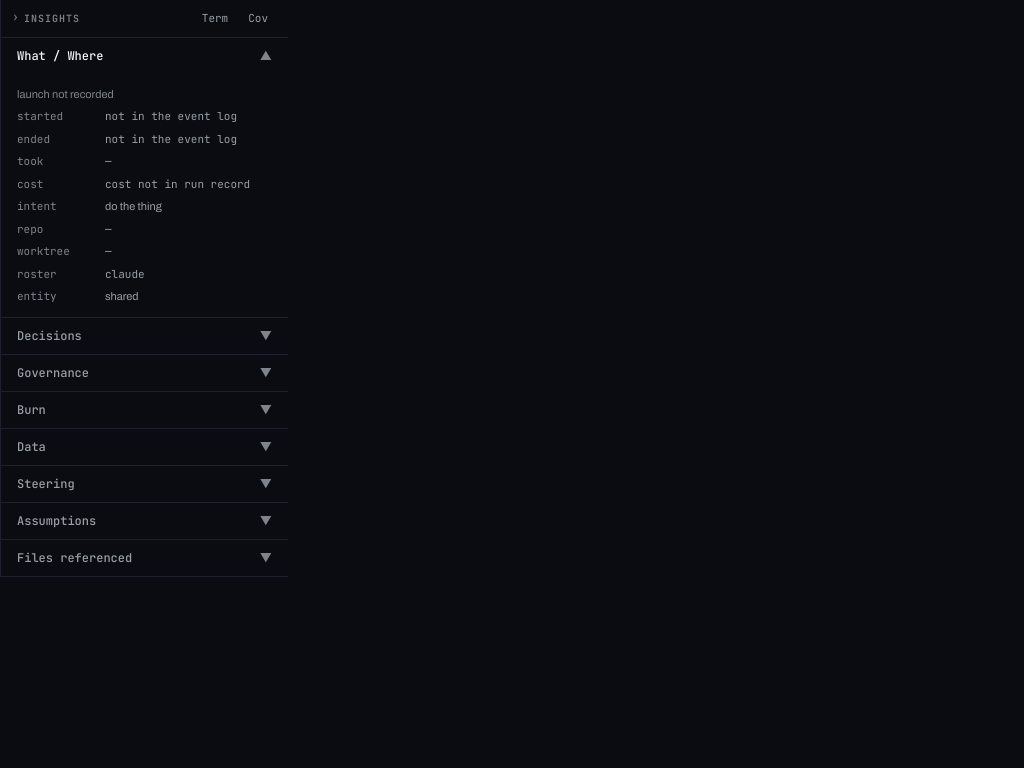
Scenario: RightPanel Files — the Full diff on the EMPTY state (F-7R2-013) › a completed run whose units recorded no file reads still offers Full diff, and it opens the viewer on the diff tab
Step 1. Click the button "Files referenced ▼" → (75,558), box x1=1 y1=540 x2=288 y2=576
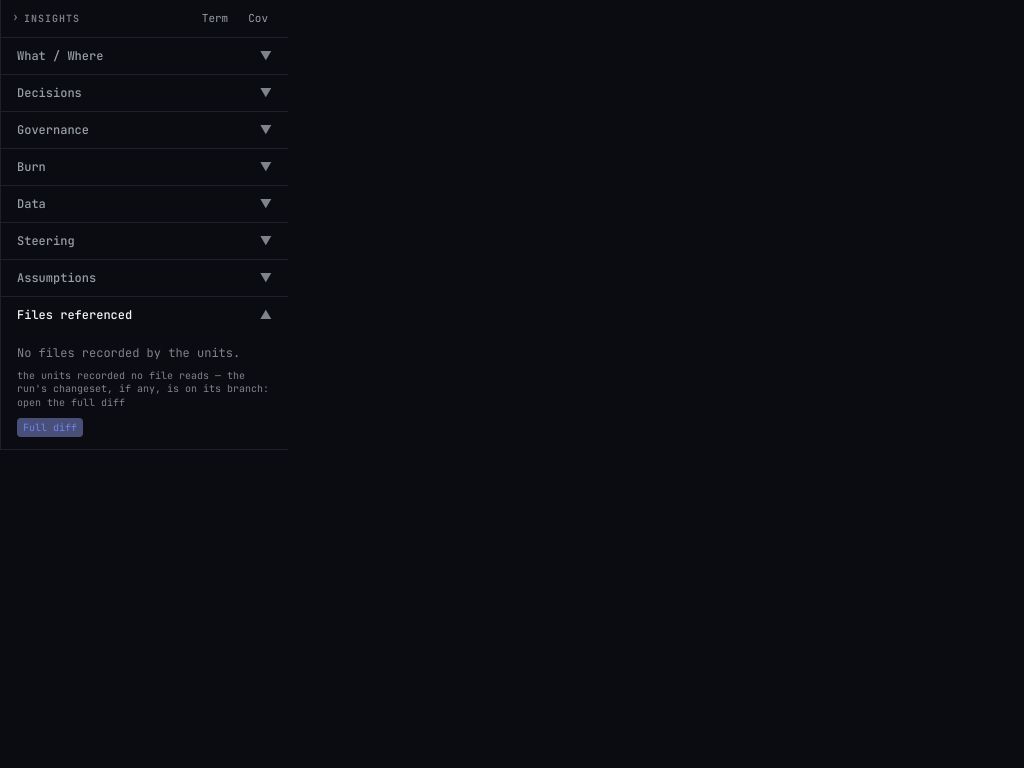
Now the element with test id "files-empty" shows "No files recorded by the units.", box x1=17 y1=344 x2=240 y2=360
Now the element with test id "files-empty" shows "the run's changeset, if any, is on its branch: open the full diff", box x1=17 y1=368 x2=269 y2=409
Step 2. Click the button with test id "files-full-diff" → (50,427), box x1=17 y1=418 x2=83 y2=437
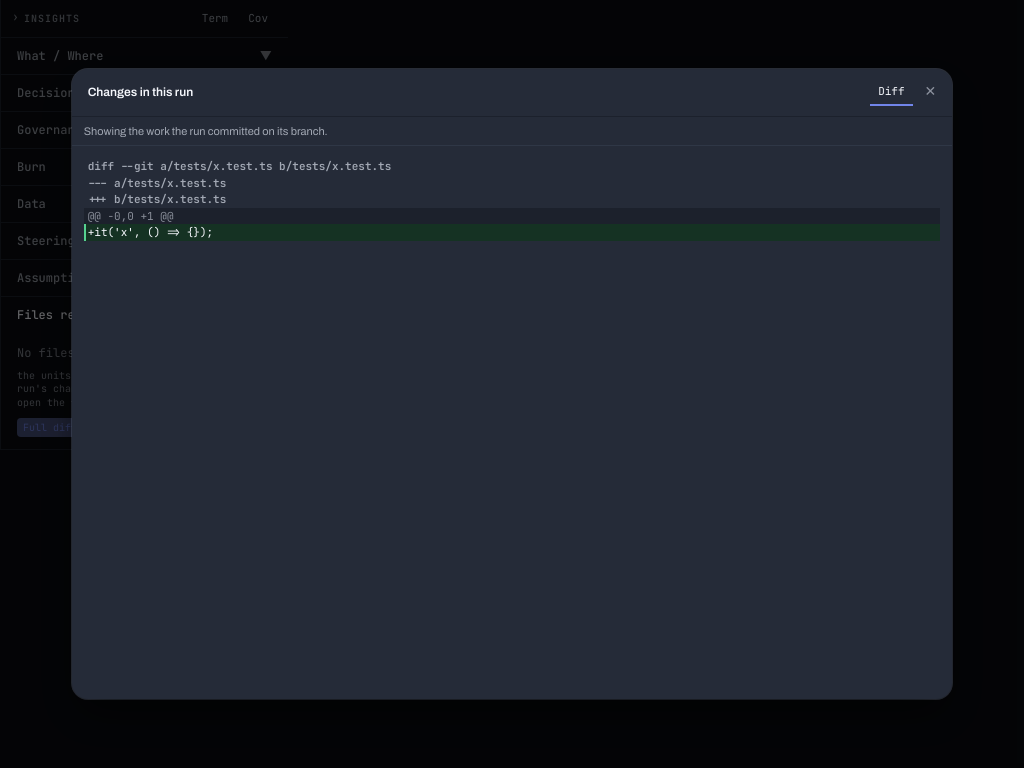
Now the dialog with test id "file-viewer" is shown
